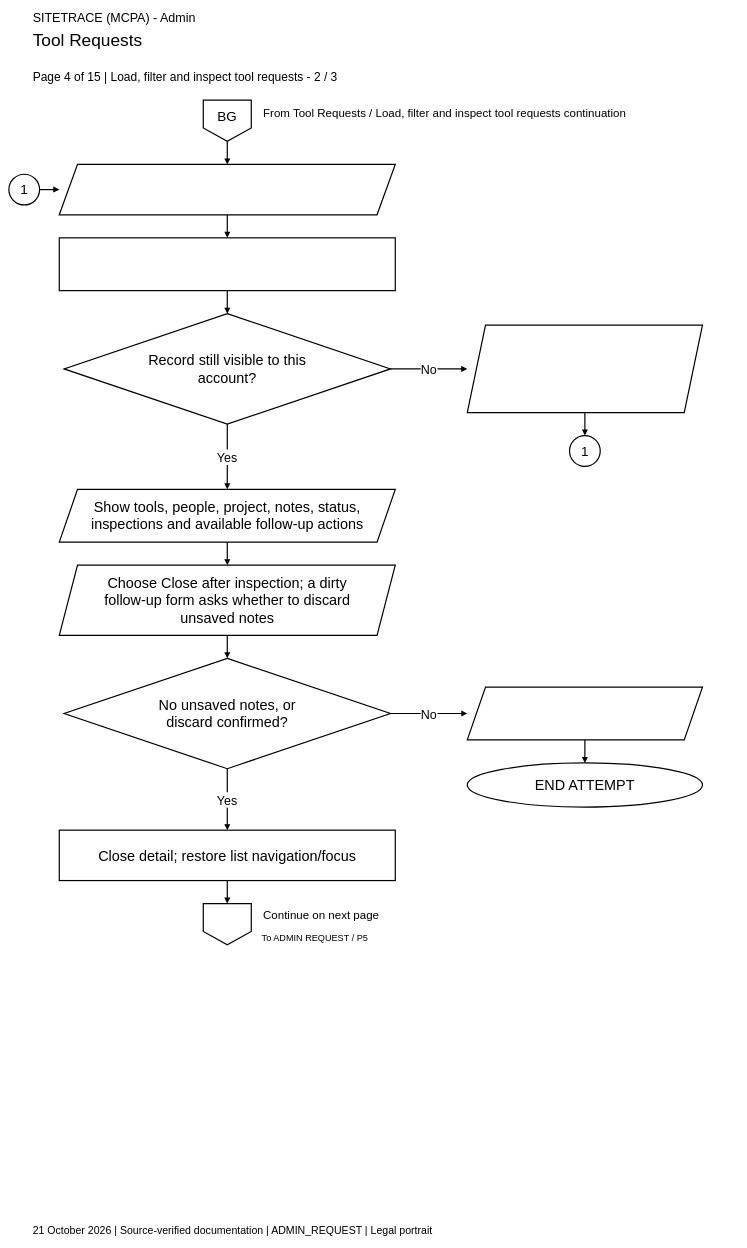
Image size: 747x1248. Some labels were removed from this diagram. Here are the shapes that lost their labels. From the top down, the centre of each, then its label:
At (x=227, y=189): "Choose View on a saved record".
At (x=227, y=264): "Refresh snapshot; resolve request ID within visible records".
At (x=584, y=368): "Show record unavailable or access removed Refresh list and choose another record".
At (x=584, y=713): "Keep detail and unsaved inputs open".
At (x=227, y=924): "BH".
